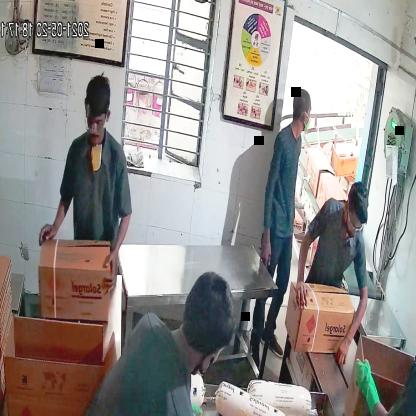goggles: (79, 104, 111, 138), (343, 216, 368, 237)
